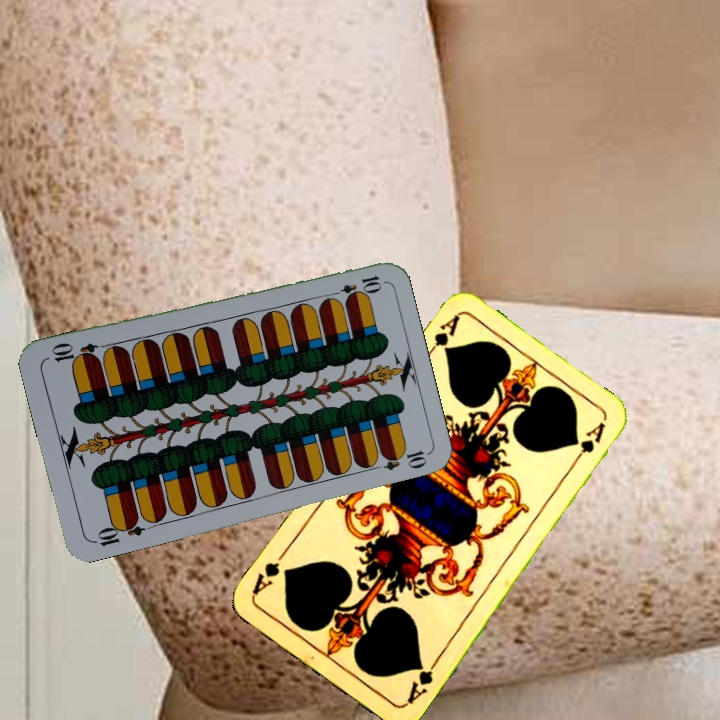E10: (88, 513, 147, 549), (325, 271, 384, 301)
GA: (420, 311, 462, 363), (402, 655, 442, 707)
